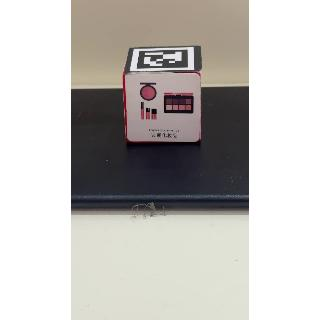Expired_Cosmetic: (127, 75, 203, 144)
